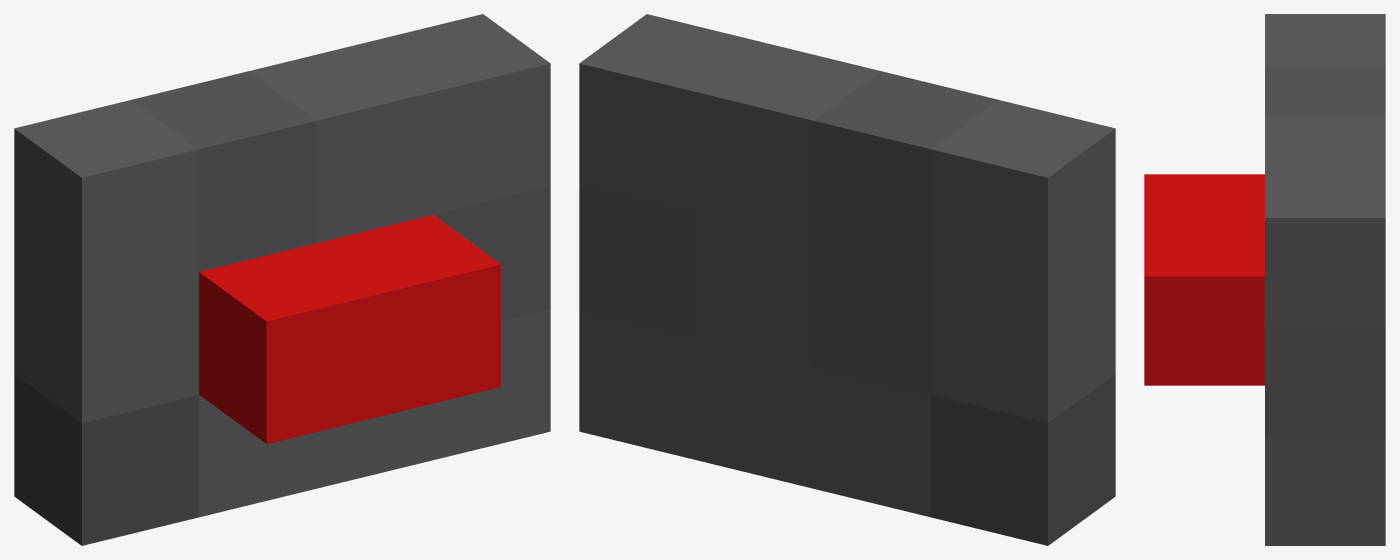
File: Button_Wall_Big_Red.obj
The picture shows the model from 3 angles, left to right: view 1: azimuth 30°, elevation 25°; view 2: azimuth 150°, elevation 25°; view 3: azimuth 270°, elevation 25°; orthographic projection. The views are drawn at different scales.
Visible parts, largest first — view 1: Button_Wall_Big_Red_Button_Wall_Big_Red.002; view 2: Button_Wall_Big_Red_Button_Wall_Big_Red.002; view 3: Button_Wall_Big_Red_Button_Wall_Big_Red.002.
Boxes of the visible parts, bbox=[...] form: Button_Wall_Big_Red_Button_Wall_Big_Red.002: bbox=[14, 14, 550, 545]; Button_Wall_Big_Red_Button_Wall_Big_Red.002: bbox=[579, 14, 1115, 545]; Button_Wall_Big_Red_Button_Wall_Big_Red.002: bbox=[1144, 14, 1385, 545].
Bounding box in the file's own units: 0.4 × 0.3 × 0.2.
1 material, 1 textured.
